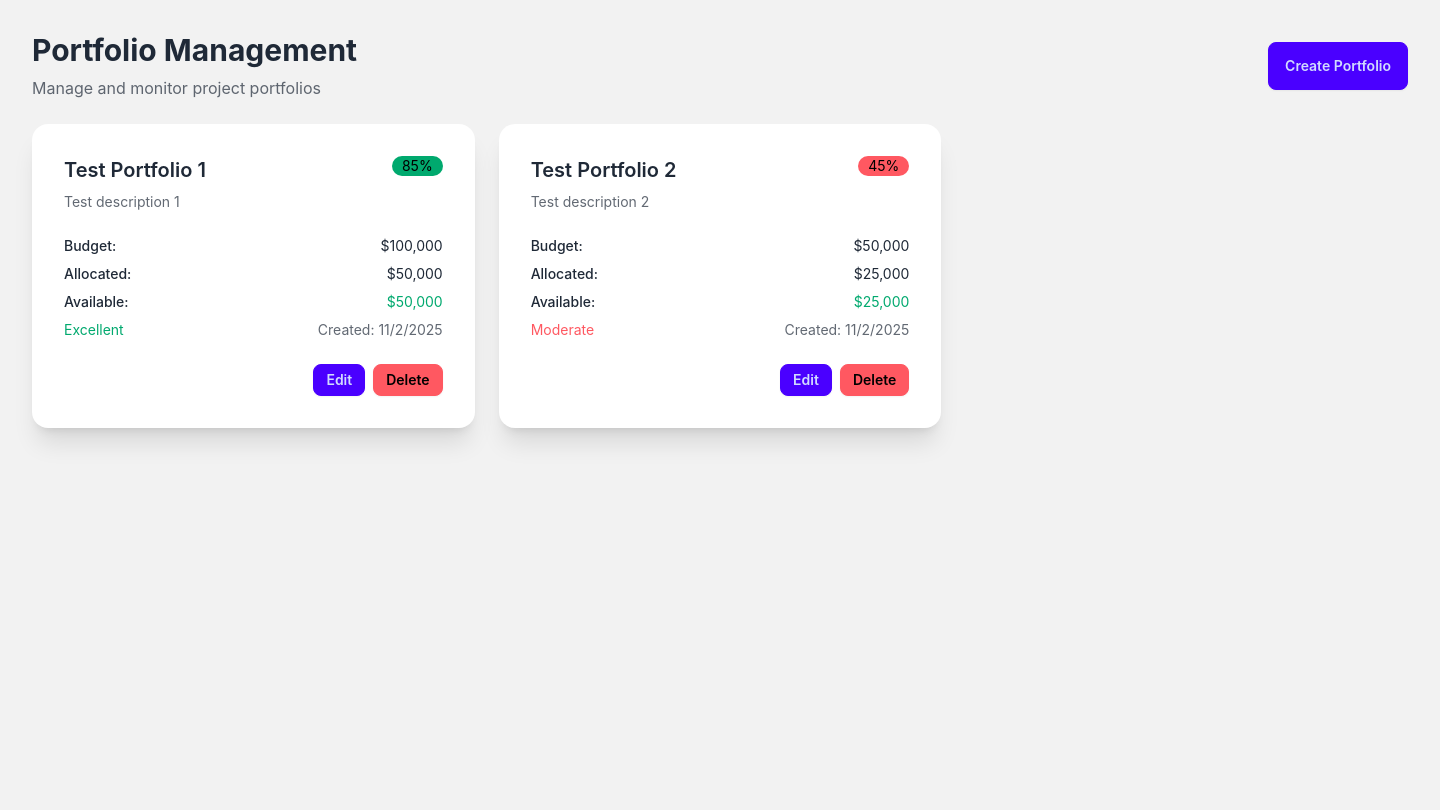
PortfolioList › cancels create form when cancel button is clicked
Open create form
Click the button "Create Portfolio" at (1338, 66), box [1268, 42, 1408, 90]
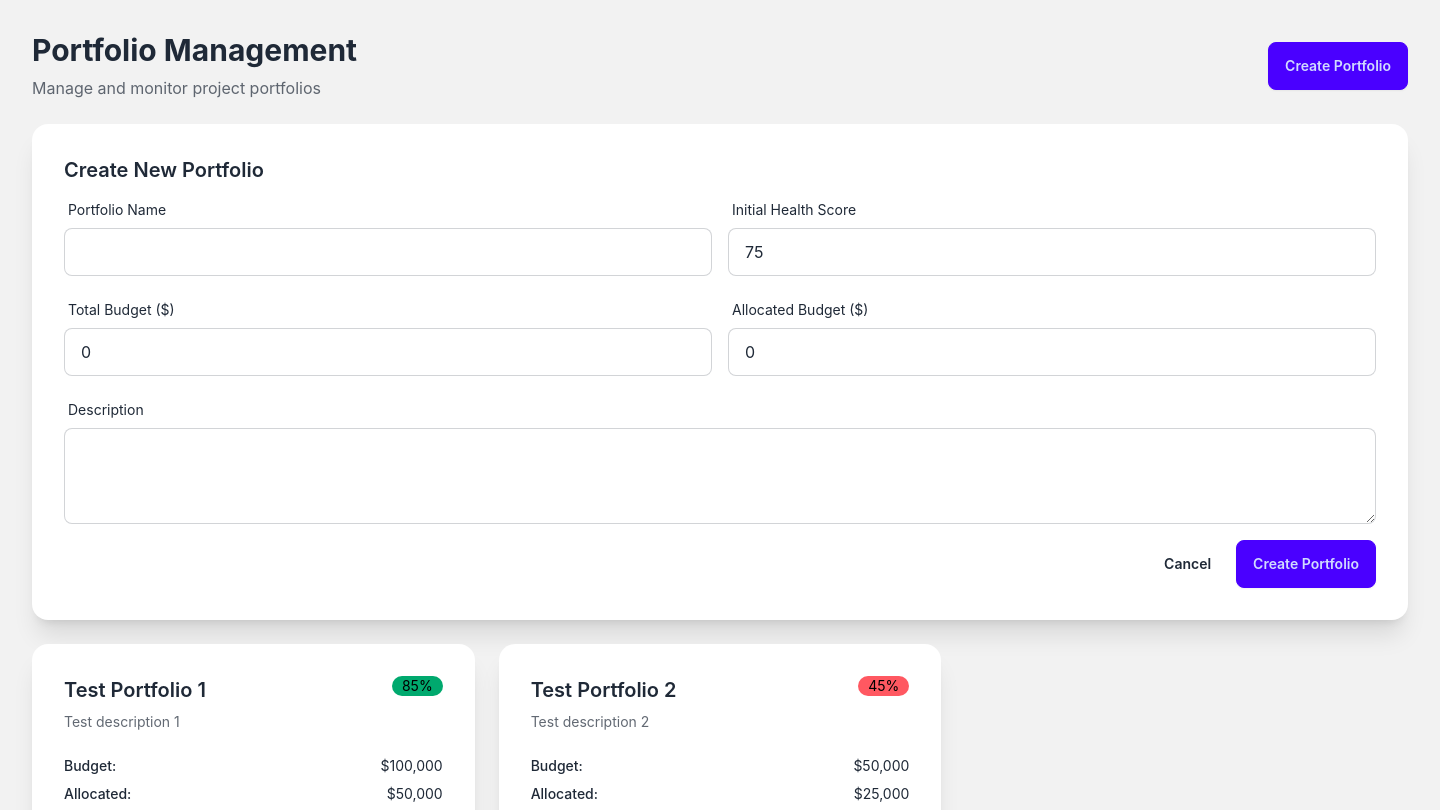
Click cancel
Click the button "Cancel" at (1188, 564), box [1147, 540, 1228, 588]
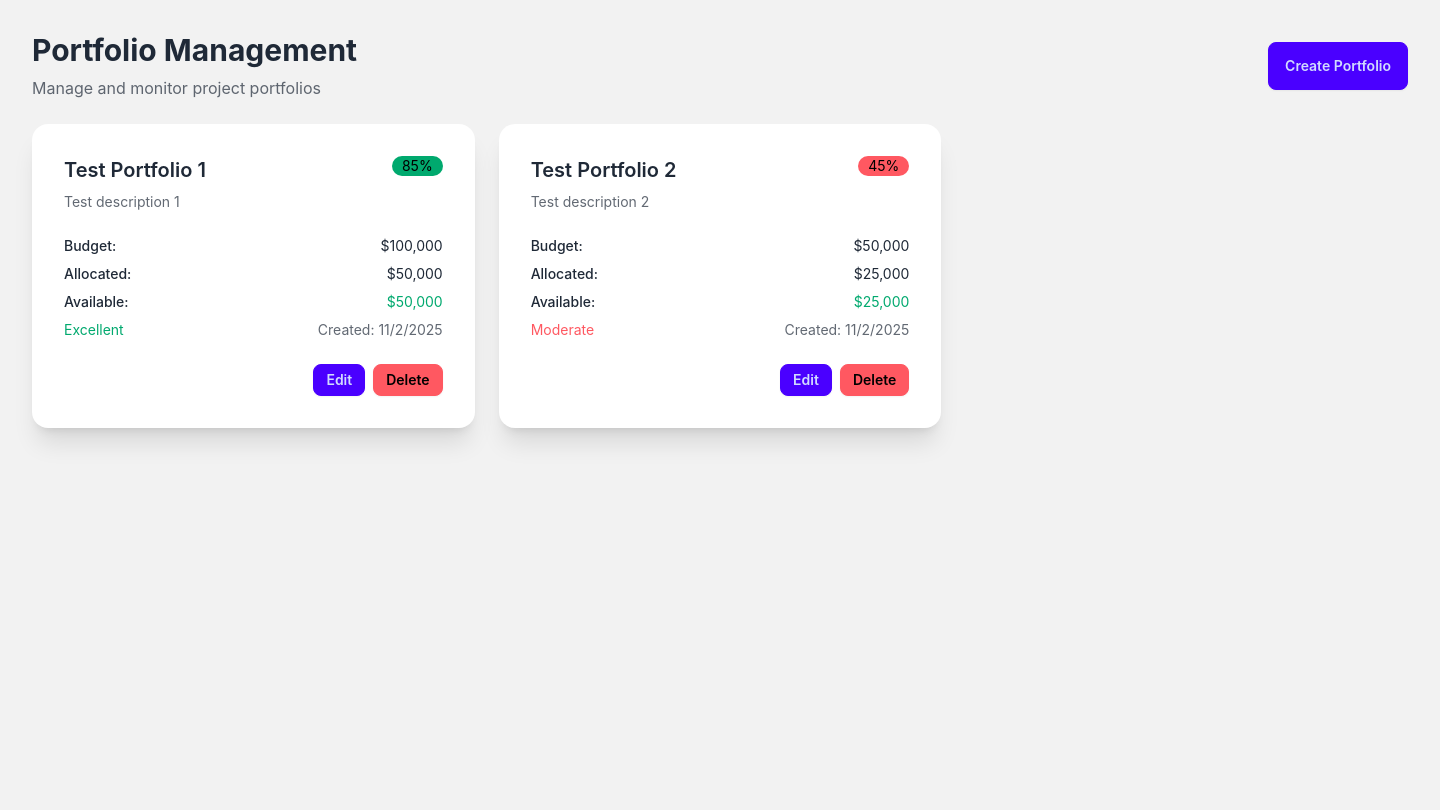
expect the heading "Create New Portfolio" is gone: met
